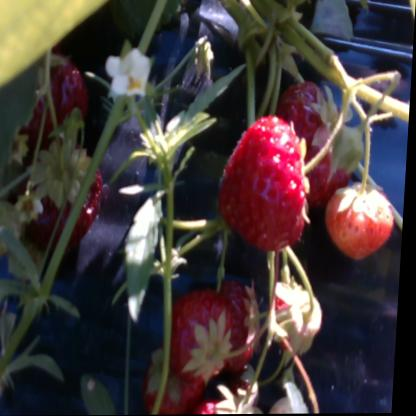ripe: (220, 123, 319, 243), (167, 293, 241, 373), (322, 187, 403, 252), (45, 152, 108, 235), (218, 286, 276, 370), (35, 53, 89, 140), (270, 277, 325, 354), (149, 353, 211, 414)
